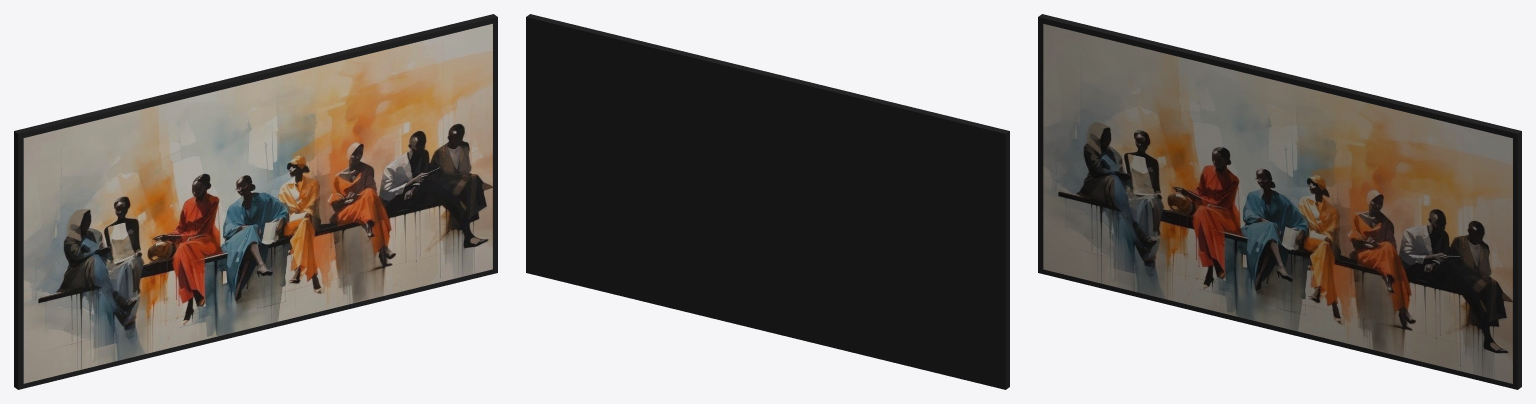
The model's file is painting.glb.
3 views of the same model, side by side, from view 1: azimuth 30°, elevation 25°; view 2: azimuth 150°, elevation 25°; view 3: azimuth 330°, elevation 25° (orthographic).
Parts seen in each view (by area): view 1: Cube, Plane; view 2: Plane; view 3: Cube, Plane.
Part boxes in pixels (x1,y1,x2,y2): Cube: (23,23,492,383); Plane: (14,14,497,389); Plane: (526,14,1009,389); Cube: (1043,24,1512,383); Plane: (1038,14,1521,389).
Size of the model in its own units: 1.23 by 0.6251 by 0.018.
Materials: 2 (1 with a texture image).
